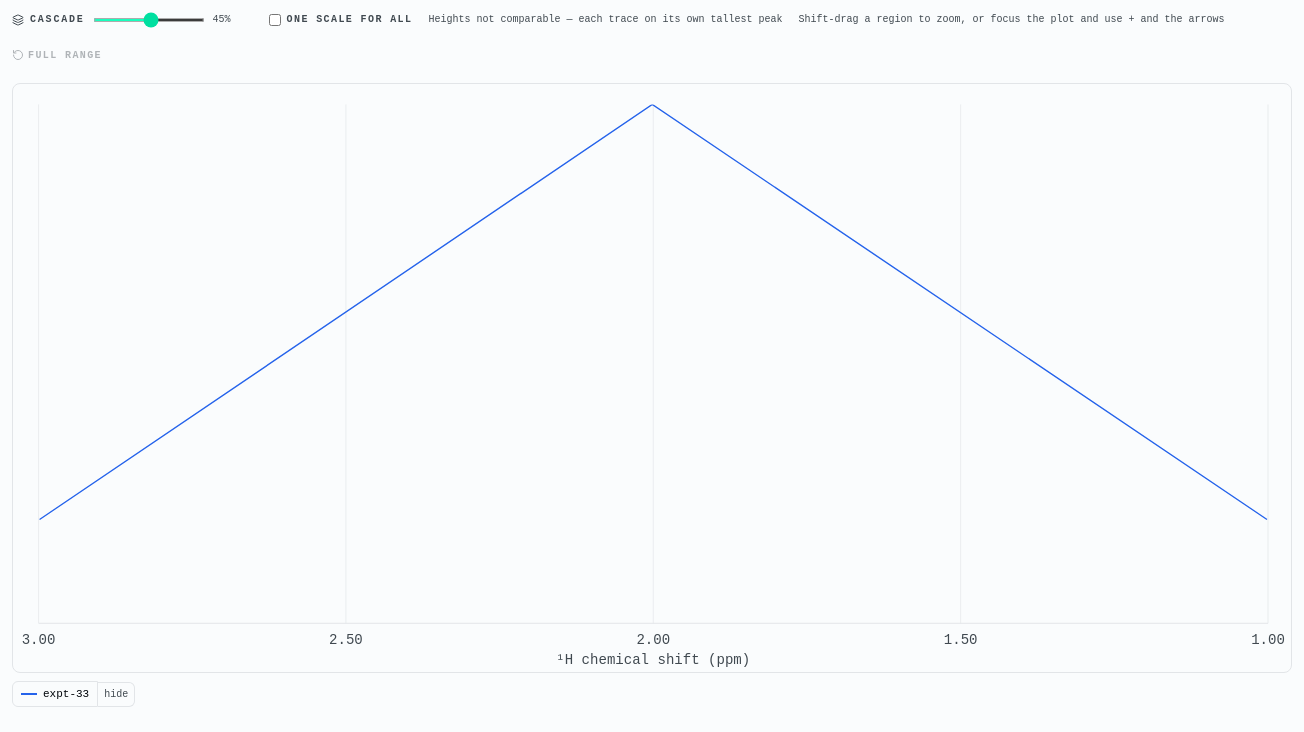
Scenario: telling many traces apart › reports a shown trace as pressed, so the state and the name agree
Step 1. Click the button with test id "spectrum-stack-viewer-toggle-a" → click(117, 694), box [98, 682, 135, 707]
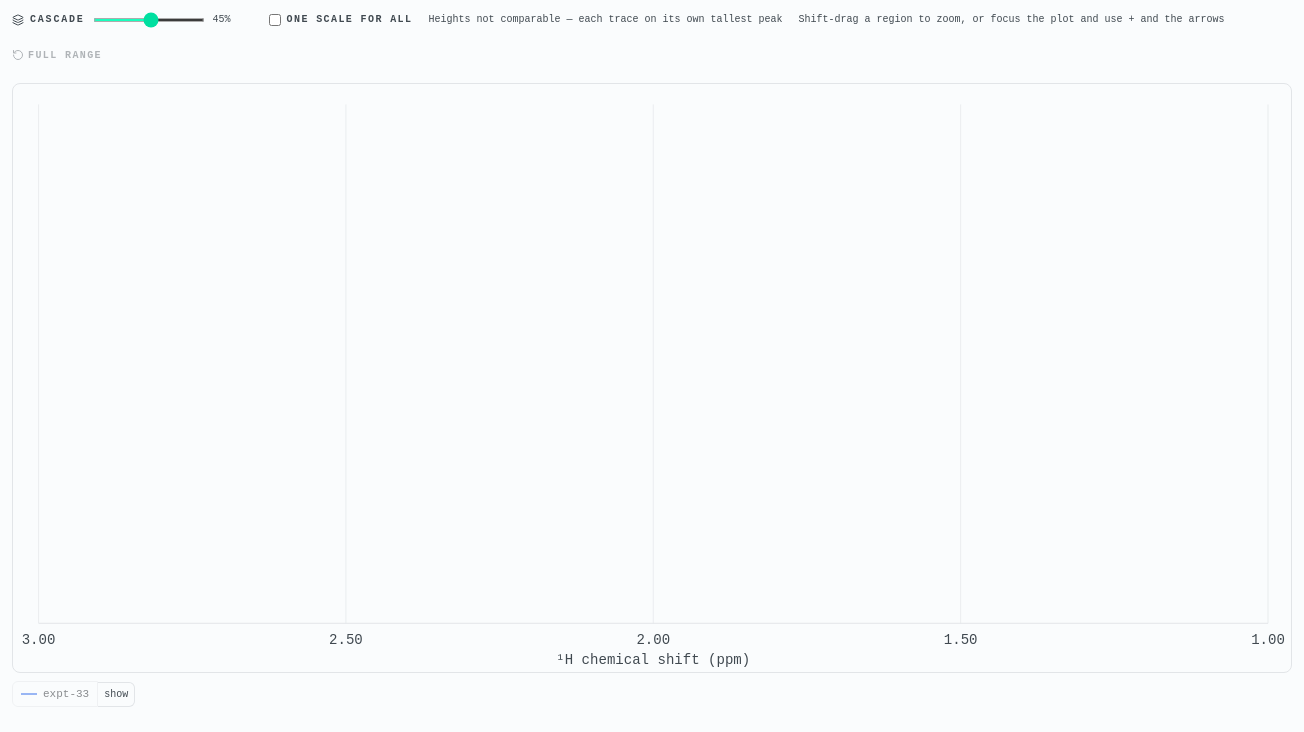
Expected: the button with test id "spectrum-stack-viewer-toggle-a" is not pressed, [98, 682, 135, 707]
